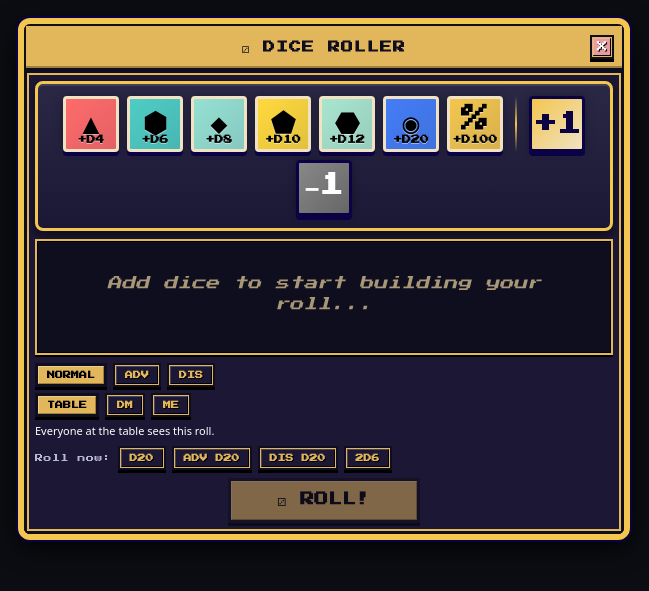
Scenario: DiceRoller › Adding Modifiers › should add positive modifier
The image size is (649, 591).
Click the button named "add +1 modifier".
click(557, 124)  # box [529, 96, 585, 152]
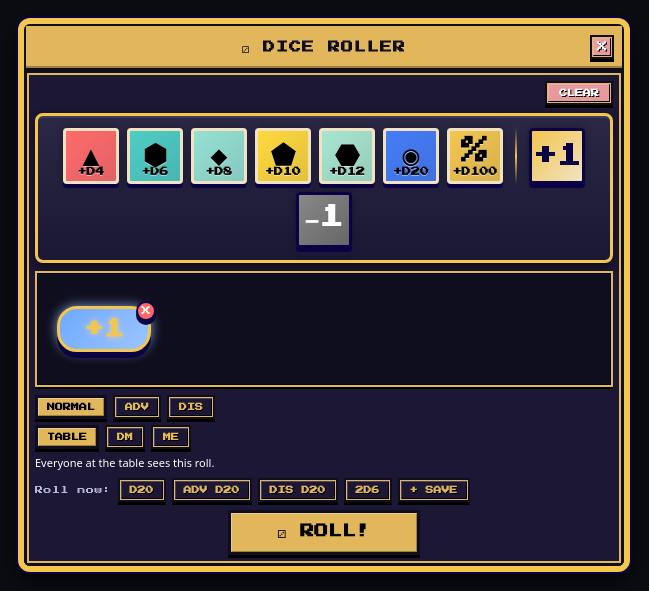
Check: the text "Add dice to start building" is gone
